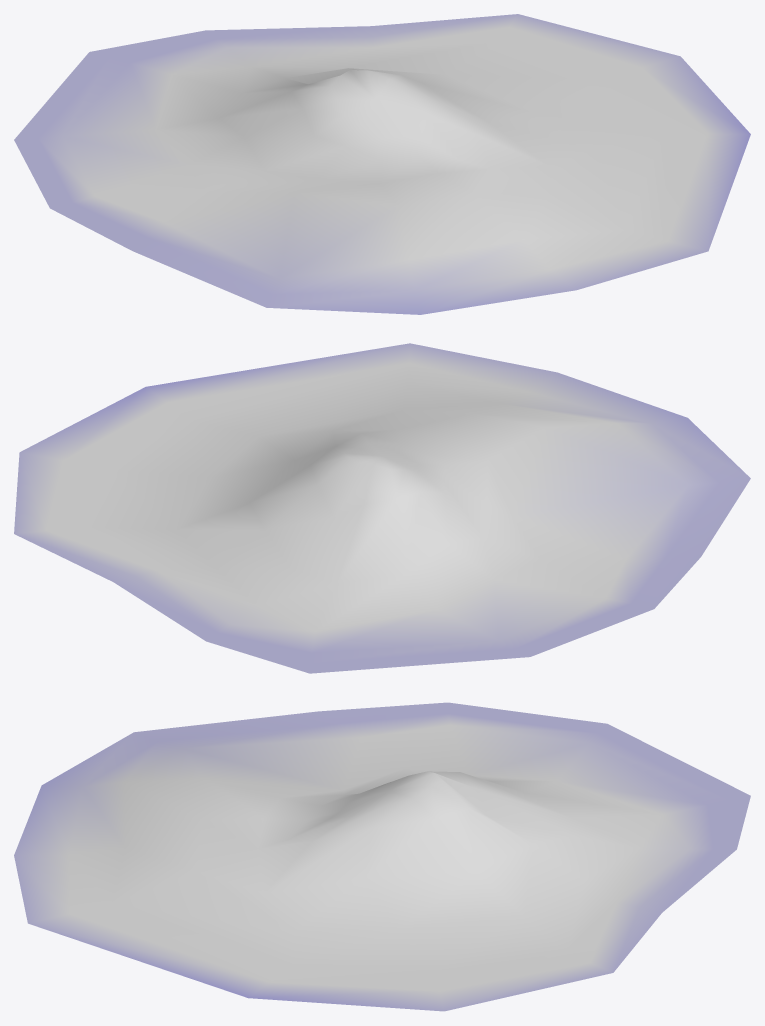
File: Mud.fbx
3 views of the same model, one above another, from view 1: azimuth 30°, elevation 25°; view 2: azimuth 150°, elevation 25°; view 3: azimuth 270°, elevation 25° (orthographic).
Parts seen in each view (by area): view 1: Circle; view 2: Circle; view 3: Circle.
Boxes of the visible parts, x1,y1,x2,y2 form: Circle: [14, 14, 750, 314]; Circle: [14, 343, 750, 673]; Circle: [14, 702, 750, 1011].
Bounding box in the file's own units: 6.59 × 0.6851 × 6.64.
